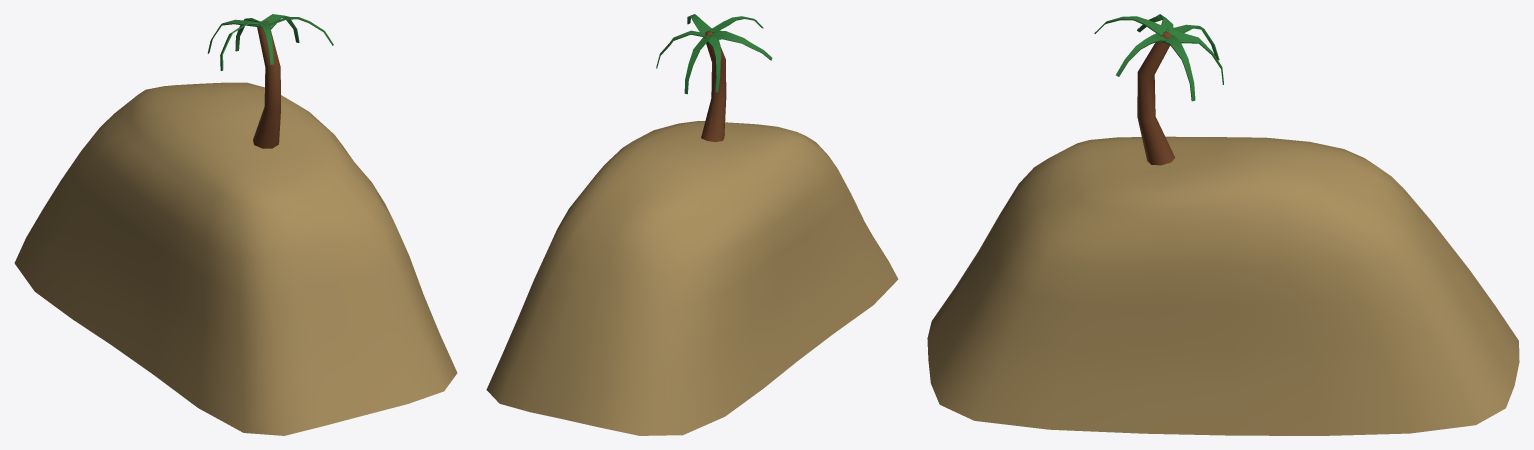
The model's file is ile_sebaSTIANSCRASTEAINOS_.fbx.
3 renders of one model, left to right at view 1: azimuth 30°, elevation 25°; view 2: azimuth 150°, elevation 25°; view 3: azimuth 270°, elevation 25°, orthographic. The views are drawn at different scales.
Visible parts, largest first — view 1: Cube, Circle; view 2: Cube, Circle, Plane.003; view 3: Cube, Circle.
Boxes of the visible parts, x1,y1,x2,y2 form: Cube: [14, 82, 457, 435]; Circle: [253, 21, 280, 148]; Cube: [486, 121, 898, 435]; Circle: [701, 31, 726, 141]; Plane.003: [712, 30, 772, 60]; Cube: [927, 136, 1519, 435]; Circle: [1137, 31, 1174, 165].
Size of the model in its own units: 373 by 471 by 723.
